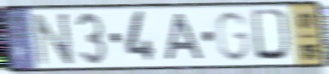3: (75, 10, 107, 67)
4: (124, 8, 161, 67)
A: (164, 12, 207, 63)
D: (249, 7, 295, 64)
G: (213, 9, 252, 63)
N: (31, 11, 77, 67)
